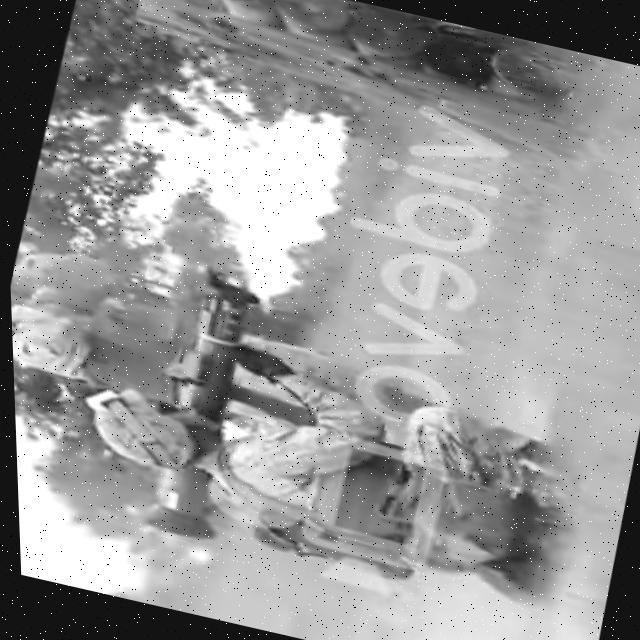rocket: (133, 268, 277, 546)
